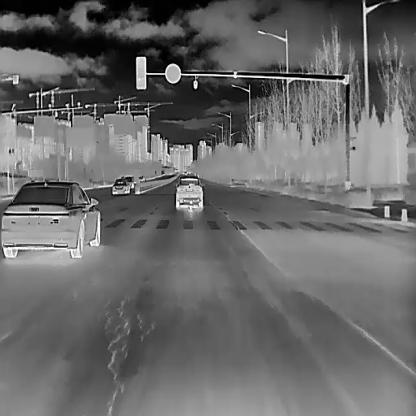car: (0, 178, 99, 257), (173, 175, 204, 209), (111, 177, 129, 193), (123, 175, 133, 188)
